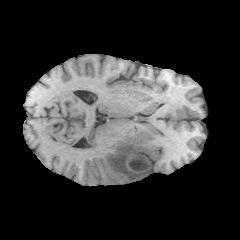glioma: (70, 135, 153, 183)
